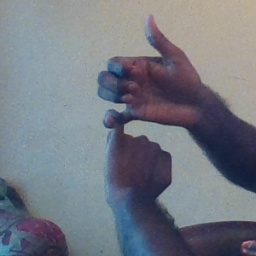S: (93, 8, 201, 193)
